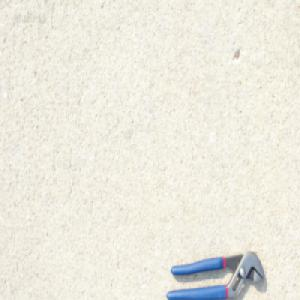Pliers: (165, 248, 265, 300)
